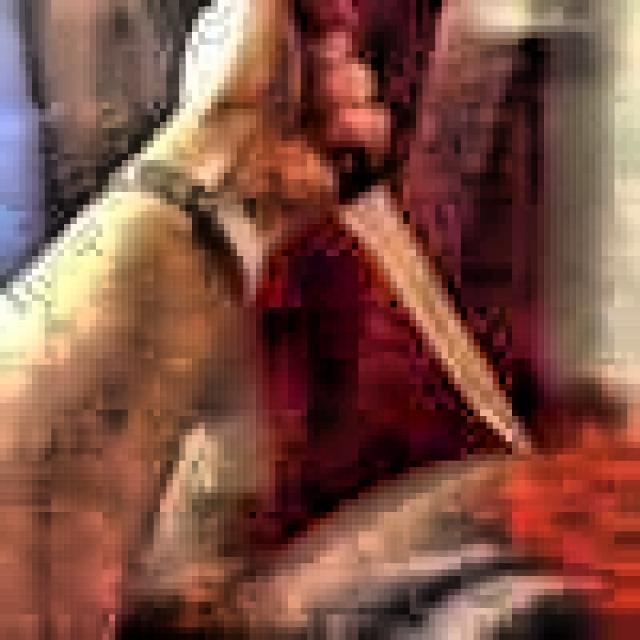knife: (336, 154, 534, 462)
